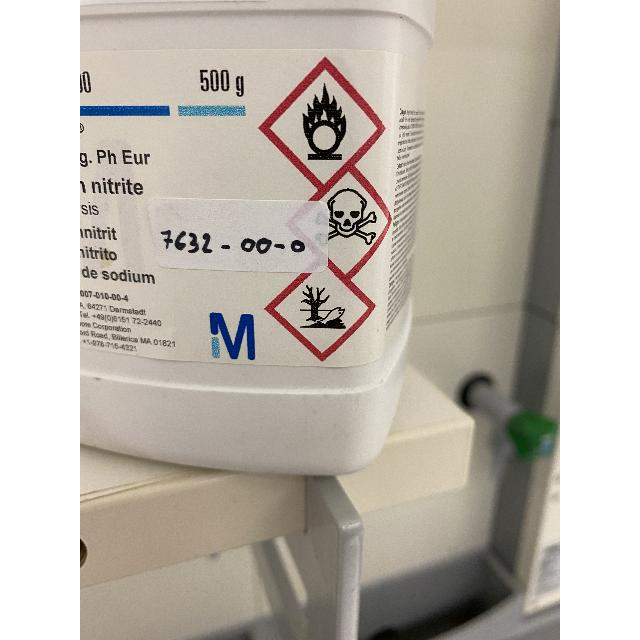acute toxicity: (315, 188, 377, 248)
hazardous to the environment: (298, 284, 348, 330)
oxidising: (301, 82, 347, 162)
